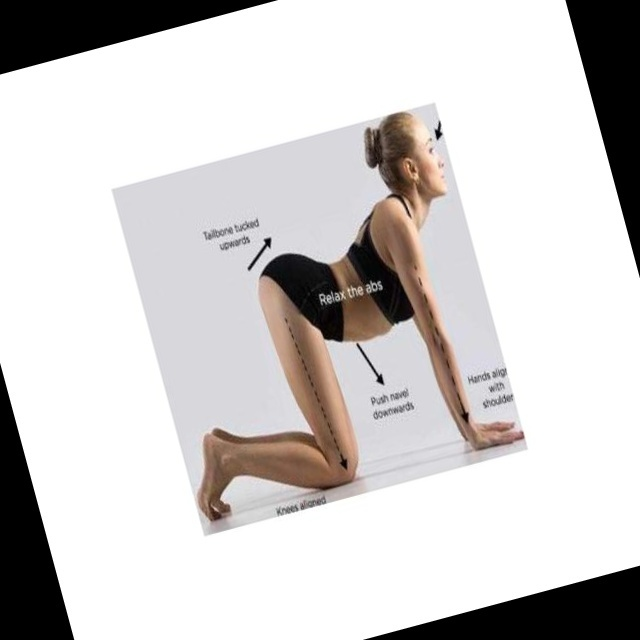Cow_Pose: (194, 111, 526, 523)
